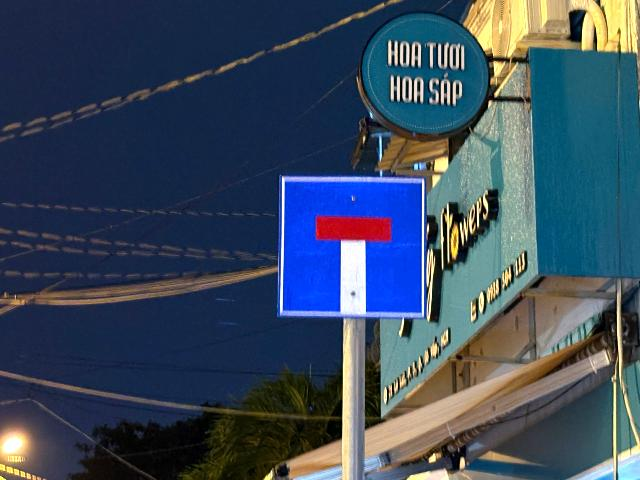duong-cut: (277, 174, 426, 320)
